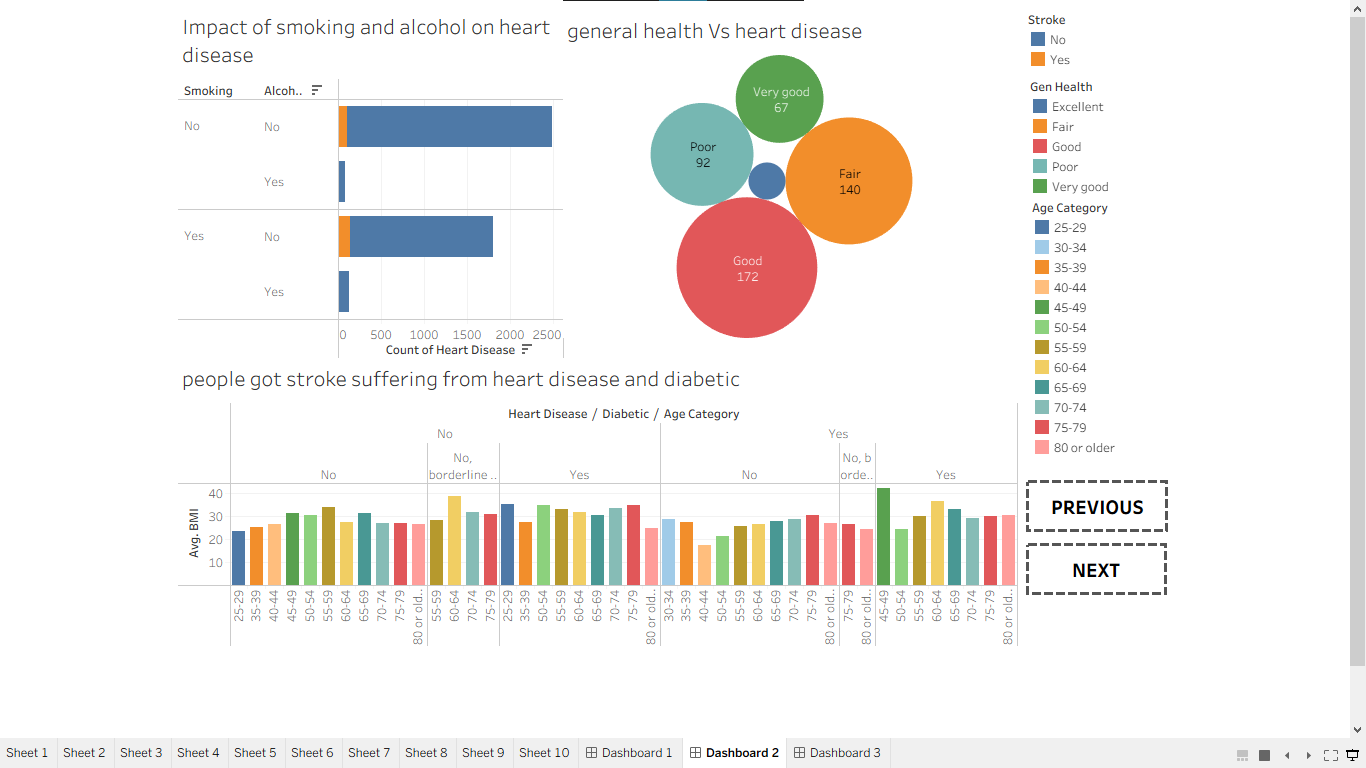

This screenshot's page, from the dashboard's own definition file:
{"tool":"tableau","page":{"name":"Dashboard 2","canvas":[1000,800],"ordinal":1},"visuals":[{"type":"worksheet","title":"Sheet 4","mark":"Automatic","rows":["Smoking","AlcoholDrinking"],"cols":["HeartDisease"],"box":[4,8,390,354]},{"type":"legend","title":"Sheet 4","param":"[federated.0jo01wn0a97d7p16aqg6s092jnv1].[none:Stroke:nk]","box":[854,11,140,58]},{"type":"worksheet","title":"Sheet 7","mark":"Circle","box":[389,12,437,326]},{"type":"legend","title":"Sheet 7","param":"[federated.0jo01wn0a97d7p16aqg6s092jnv1].[none:GenHealth:nk]","box":[856,78,140,118]},{"type":"legend","title":"Sheet 10","param":"[federated.0jo01wn0a97d7p16aqg6s092jnv1].[none:AgeCategory:nk]","box":[858,199,140,258]},{"type":"worksheet","title":"Sheet 10","mark":"Automatic","rows":["BMI"],"cols":["HeartDisease","Diabetic","AgeCategory"],"box":[4,360,841,288]},{"type":"dashboard-object","box":[852,480,142,52]},{"type":"dashboard-object","box":[852,543,141,52]}]}

Visuals, with their boxes on the page's 1000x800 design canvas (x1, y1, x2, y2). These are canvas units, not pixel positions in the 1366x768 screenshot, which may show the page scaled, cropped or inside an application window:
"Sheet 4" worksheet: bbox=(4, 8, 394, 362)
"Sheet 4" legend: bbox=(854, 11, 994, 69)
"Sheet 7" worksheet (Circle marks): bbox=(389, 12, 826, 338)
"Sheet 7" legend: bbox=(856, 78, 996, 196)
"Sheet 10" legend: bbox=(858, 199, 998, 457)
"Sheet 10" worksheet: bbox=(4, 360, 845, 648)
dashboard-object: bbox=(852, 480, 994, 532)
dashboard-object: bbox=(852, 543, 993, 595)
